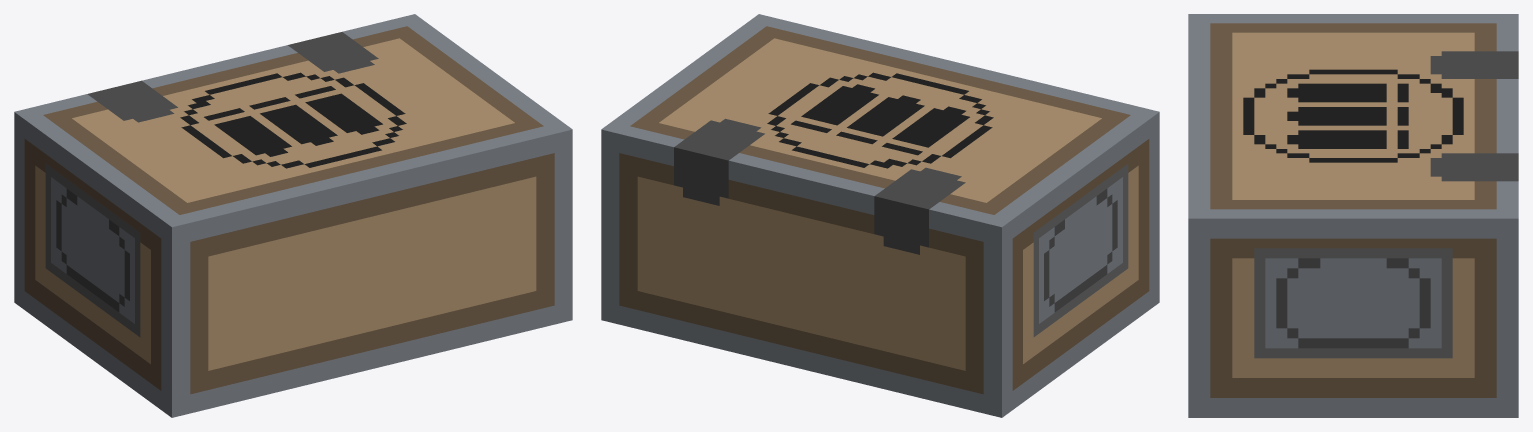
Rendered from ammo_pack.glb.
3 views of the same model, side by side, from view 1: azimuth 30°, elevation 25°; view 2: azimuth 150°, elevation 25°; view 3: azimuth 270°, elevation 25° (orthographic). The views are drawn at different scales.
Parts seen in each view (by area): view 1: Object_2; view 2: Object_2; view 3: Object_2.
Part boxes in pixels (x1=…): Object_2: x1=14, y1=14, x2=572, y2=417; Object_2: x1=601, y1=14, x2=1159, y2=417; Object_2: x1=1188, y1=14, x2=1518, y2=417.
Size of the model in its own units: 44 by 20 by 30.
1 material, 1 textured.
